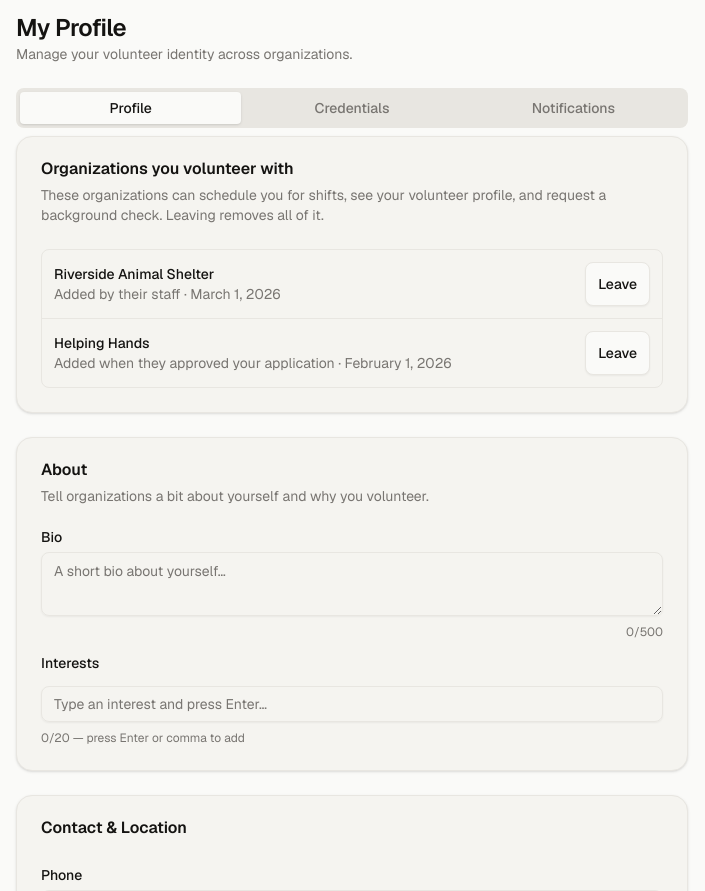
Test: OrgMemberships — confirm then leave › Cancel returns to the resting state without mutating anything
The image size is (705, 891).
Click the button with aria-label "Leave: Riverside Animal Shelter": (618, 284) top-left (585, 262), bottom-right (650, 306)
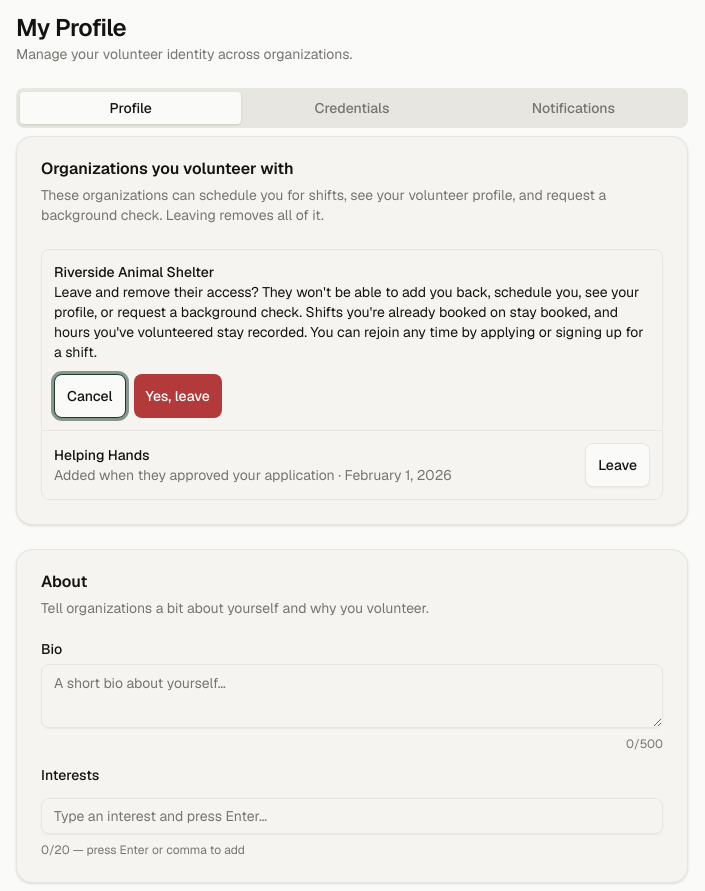
Click the button with aria-label "Cancel: stay on the roster for Riverside Animal Shelter": (90, 396) top-left (54, 374), bottom-right (126, 418)
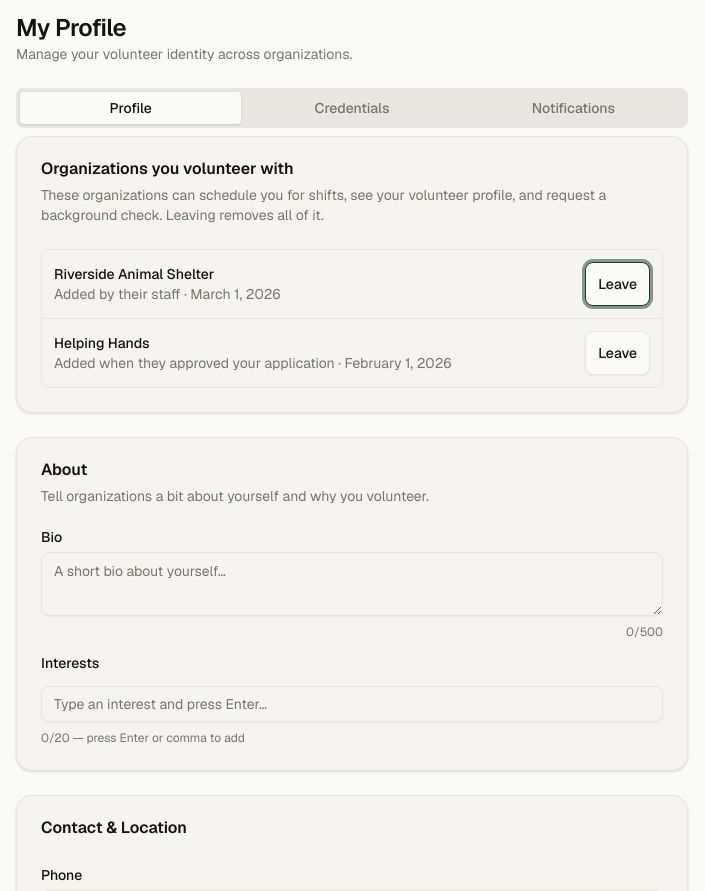
Check: the button with aria-label "Leave: Riverside Animal Shelter" is shown, box top-left (585, 262), bottom-right (650, 306)
